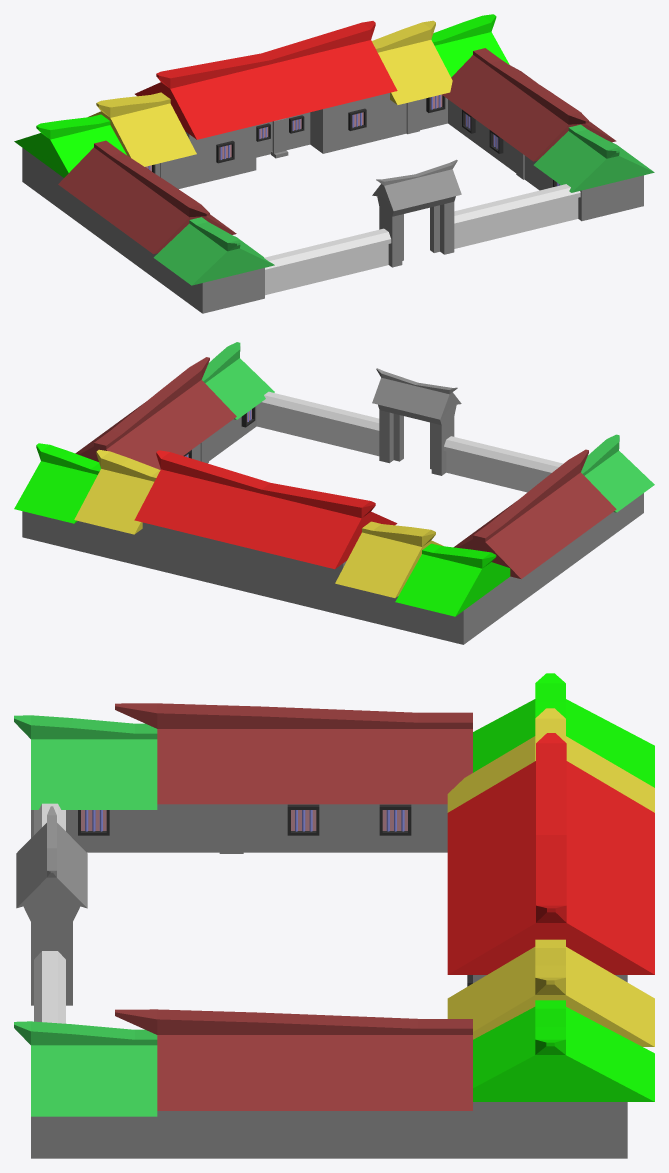
Rendered from 三合院_2_3.FBX.
The picture shows the model from 3 angles, top to bottom: view 1: azimuth 30°, elevation 25°; view 2: azimuth 150°, elevation 25°; view 3: azimuth 270°, elevation 25°; orthographic projection. The views are drawn at different scales.
Visible parts, largest first — view 1: 祠堂, Object002, Object001, 6549, Object003, 門口, Object004, Box053, Box040, Box056, Box055, Box057 (+3 smaller); view 2: 祠堂, Object002, Object003, Object001, 6549, 門口, Box053, Box040, Box056, Box055, Box057, Object004 (+1 smaller); view 3: Object002, 祠堂, Object003, 6549, Object001, Object004, 門口, Box037, Box057, Box056, Box047, Box048 (+1 smaller).
Part boxes in pixels (x1=…): 祠堂: x1=135, y1=21, x2=397, y2=186; Object002: x1=58, y1=48, x2=616, y2=285; Object001: x1=88, y1=20, x2=452, y2=189; 6549: x1=153, y1=124, x2=654, y2=285; Object003: x1=14, y1=14, x2=509, y2=215; 門口: x1=372, y1=159, x2=461, y2=267; Object004: x1=164, y1=173, x2=643, y2=313; Box053: x1=299, y1=239, x2=348, y2=285; Box040: x1=342, y1=228, x2=391, y2=275; Box056: x1=488, y1=192, x2=537, y2=239; Box055: x1=531, y1=184, x2=580, y2=228; Box057: x1=454, y1=203, x2=495, y2=248; 祠堂: x1=134, y1=450, x2=397, y2=615; Object002: x1=75, y1=357, x2=616, y2=610; Object003: x1=14, y1=443, x2=510, y2=644; Object001: x1=74, y1=449, x2=443, y2=629; 6549: x1=201, y1=342, x2=654, y2=512; 門口: x1=372, y1=368, x2=461, y2=475; Box053: x1=486, y1=446, x2=535, y2=492; Box040: x1=443, y1=436, x2=493, y2=482; Box056: x1=297, y1=400, x2=346, y2=446; Box055: x1=256, y1=391, x2=303, y2=436; Box057: x1=339, y1=411, x2=379, y2=456; Object004: x1=226, y1=406, x2=643, y2=540; Object002: x1=115, y1=703, x2=472, y2=1158; 祠堂: x1=447, y1=733, x2=654, y2=982; Object003: x1=473, y1=673, x2=654, y2=1158; 6549: x1=14, y1=715, x2=157, y2=1116; Object001: x1=447, y1=708, x2=654, y2=1046; Object004: x1=31, y1=810, x2=157, y2=1158; 門口: x1=16, y1=806, x2=87, y2=1005; Box037: x1=219, y1=804, x2=243, y2=853; Box057: x1=34, y1=951, x2=65, y2=993; Box056: x1=34, y1=985, x2=65, y2=1023; Box047: x1=379, y1=804, x2=411, y2=835; Box048: x1=287, y1=804, x2=319, y2=835.
Size of the model in its own units: 557 by 111 by 404.
